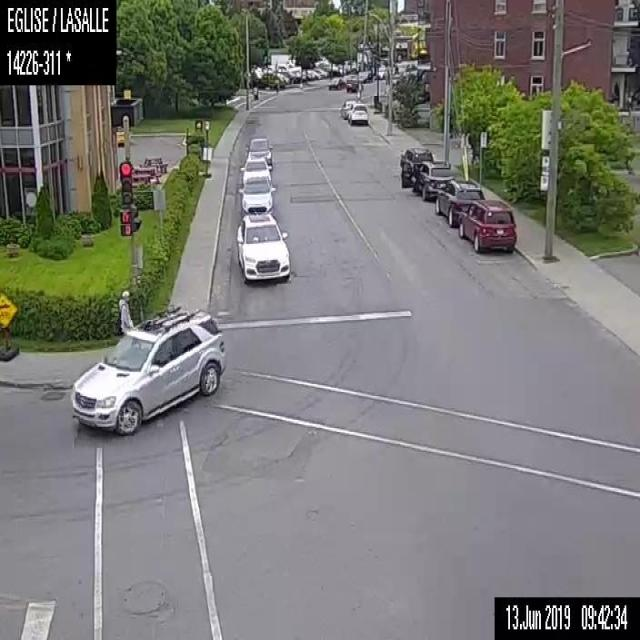pedestrian: (114, 288, 134, 337)
vehicle: (70, 303, 225, 433), (234, 211, 290, 283), (457, 199, 516, 252), (433, 175, 481, 228), (399, 157, 451, 197), (237, 175, 275, 212), (238, 158, 272, 182), (243, 136, 273, 162), (400, 145, 432, 161), (339, 98, 359, 117), (347, 106, 368, 124), (344, 76, 358, 91), (328, 76, 342, 89)
